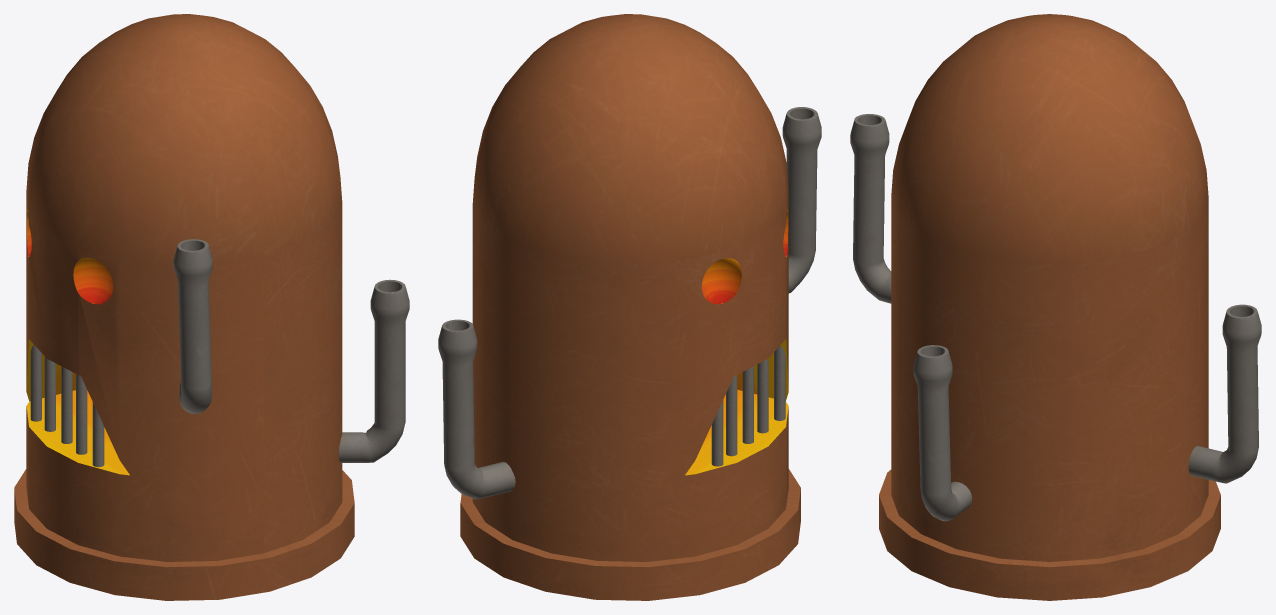
Rendered from spöke_3_M.fbx.
3 renders of one model, left to right at view 1: azimuth 30°, elevation 25°; view 2: azimuth 150°, elevation 25°; view 3: azimuth 270°, elevation 25°, orthographic.
Parts seen in each view (by area): view 1: pSphere7; view 2: pSphere7; view 3: pSphere7.
Part boxes in pixels (x1=…): pSphere7: x1=14, y1=14, x2=409, y2=600; pSphere7: x1=438, y1=14, x2=821, y2=600; pSphere7: x1=850, y1=14, x2=1261, y2=600.
Size of the model in its own units: 2.27 by 3.49 by 2.59.
